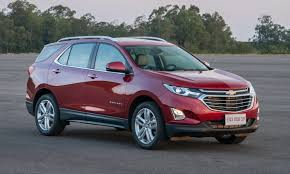car: (25, 37, 261, 146)
